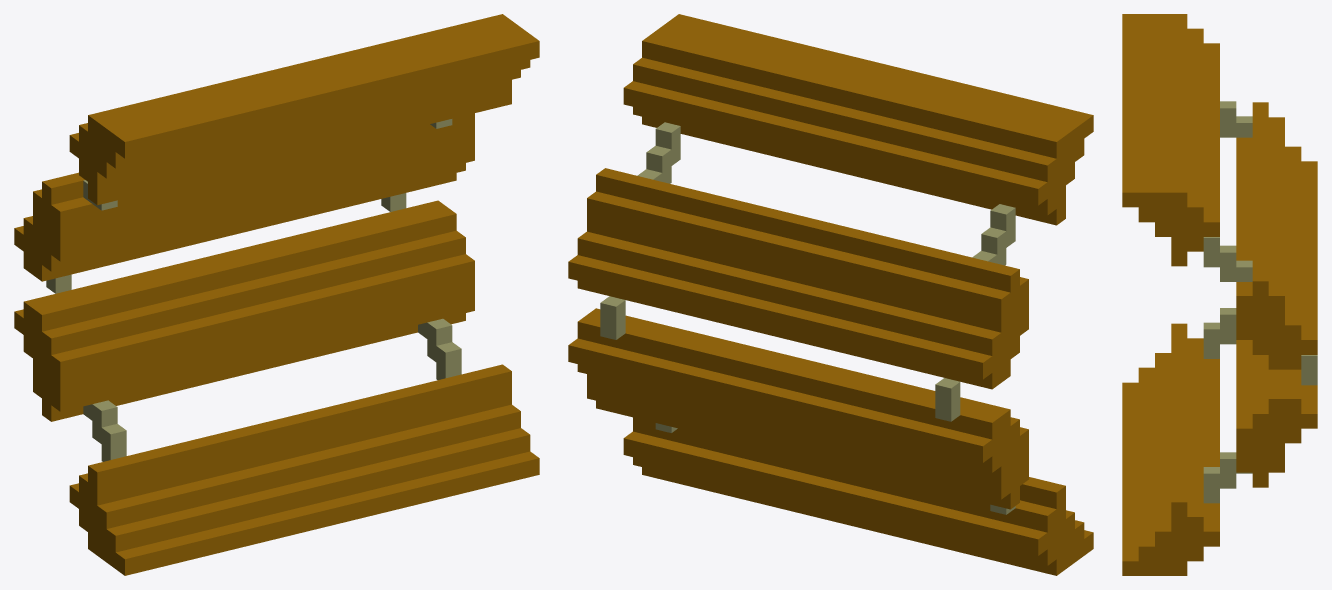
Rendered from ropebridge_curve.glb.
3 views of the same model, side by side, from view 1: azimuth 30°, elevation 25°; view 2: azimuth 150°, elevation 25°; view 3: azimuth 270°, elevation 25° (orthographic). The views are drawn at different scales.
Visible parts, largest first — view 1: Untitled; view 2: Untitled; view 3: Untitled.
Boxes of the visible parts, box(x1,y1,x2,y2) form: Untitled: box(14, 14, 539, 575); Untitled: box(568, 14, 1093, 575); Untitled: box(1122, 14, 1317, 575).
Size of the model in its own units: 2.6 by 2.6 by 1.2.
1 material, 1 textured.
